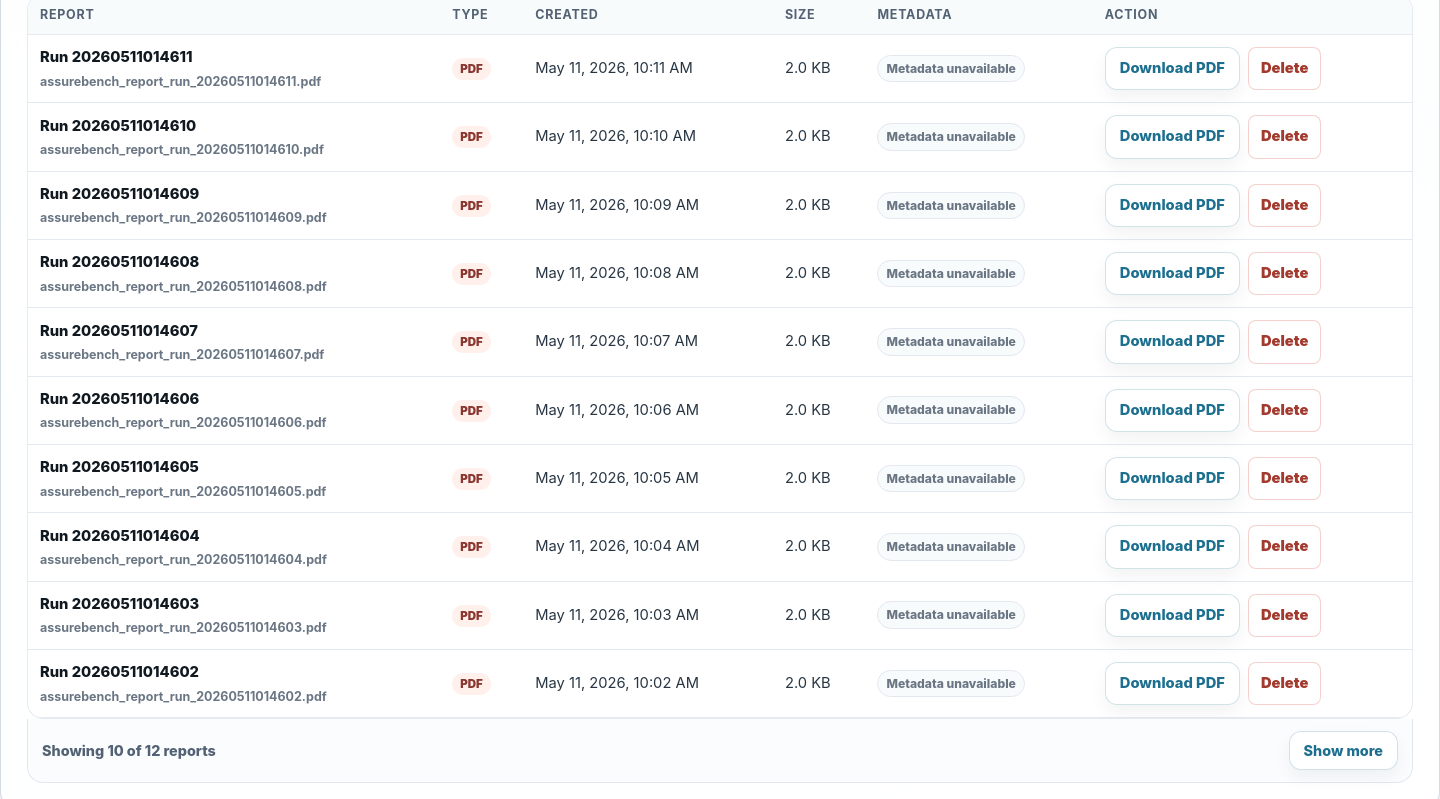
Test case: dashboard pages › Reports page limits visible reports and shows missing metadata clearly
(page scrolled)
Expected: the text "Run 20260511014611" is shown, [40, 48, 192, 66]
Expected: the text "Run 20260511014601" is not shown
Click the button "Show more".
click(1343, 751)  # box [1288, 731, 1398, 770]
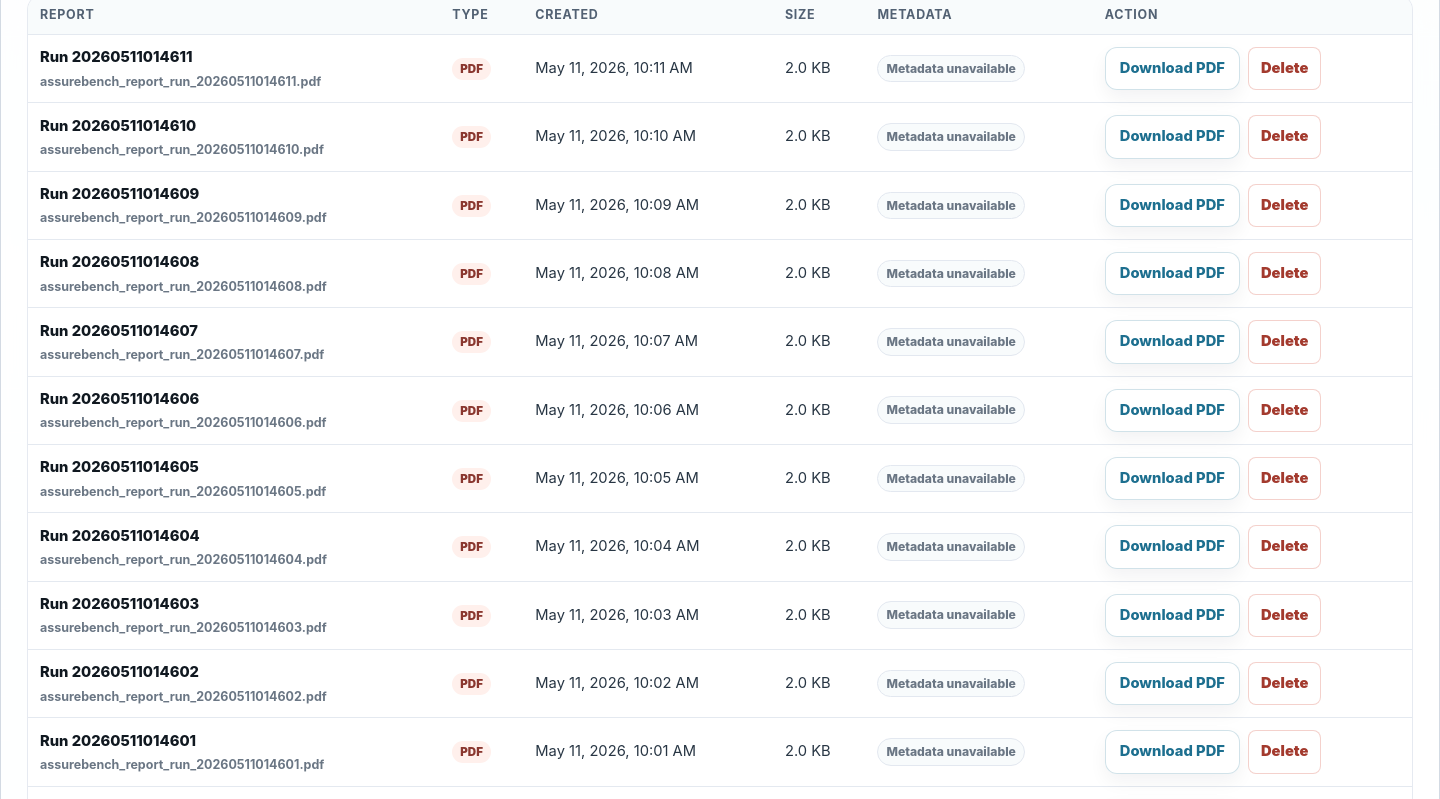
Now the text "Run 20260511014601" is shown, box [40, 732, 196, 750]
